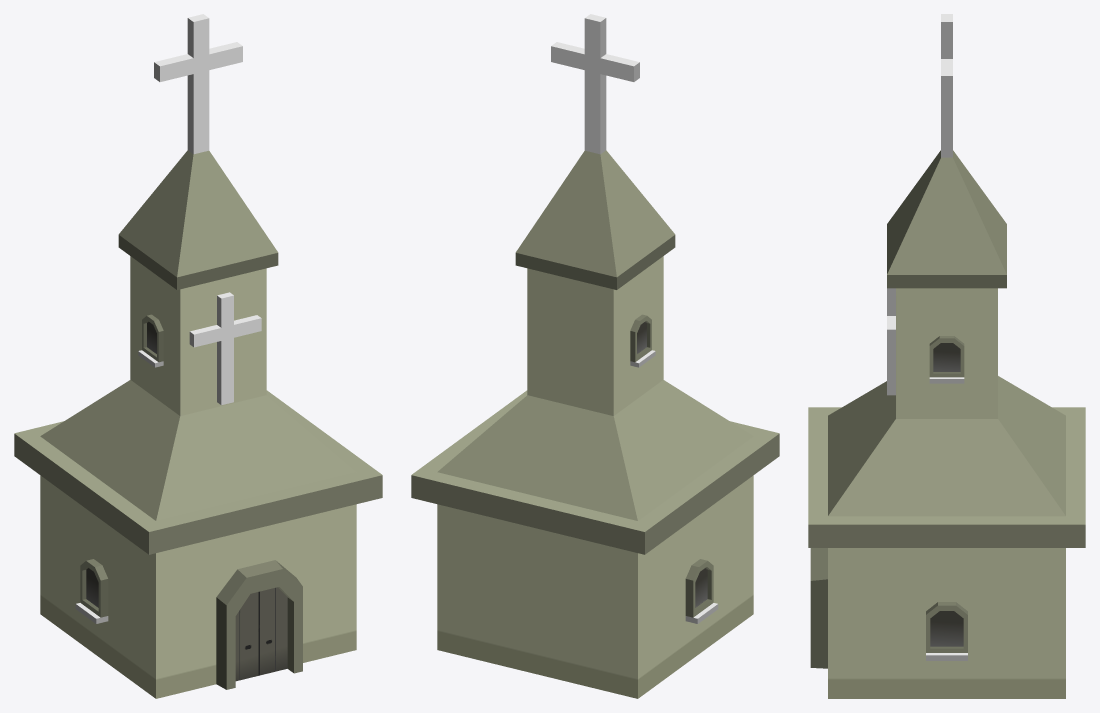
The model's file is Church.fbx.
The picture shows the model from 3 angles, left to right: view 1: azimuth 30°, elevation 25°; view 2: azimuth 150°, elevation 25°; view 3: azimuth 270°, elevation 25°; orthographic projection. The views are drawn at different scales.
Visible parts, largest first — view 1: Church; view 2: Church; view 3: Church.
Boxes of the visible parts, x1,y1,x2,y2 form: Church: [14, 14, 382, 698]; Church: [411, 14, 779, 698]; Church: [808, 14, 1085, 698].
Bounding box in the file's own units: 370 × 928 × 370.
